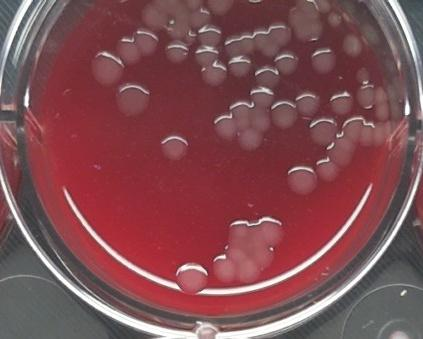vharveyi: (156, 131, 192, 166)
